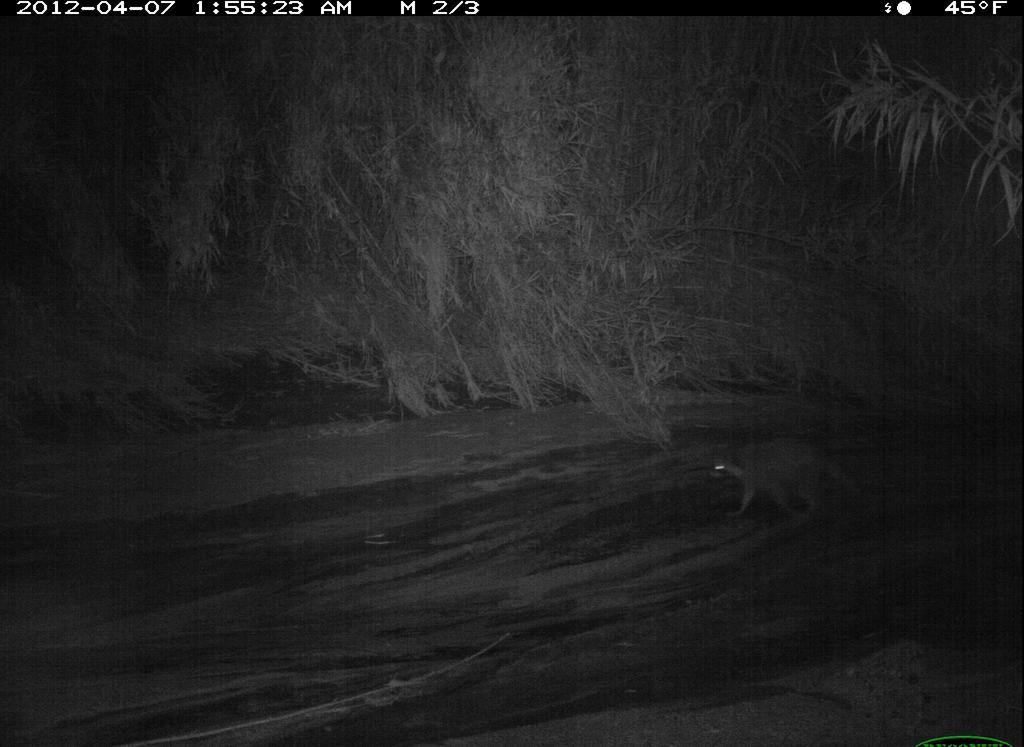raccoon: (699, 431, 880, 527)
